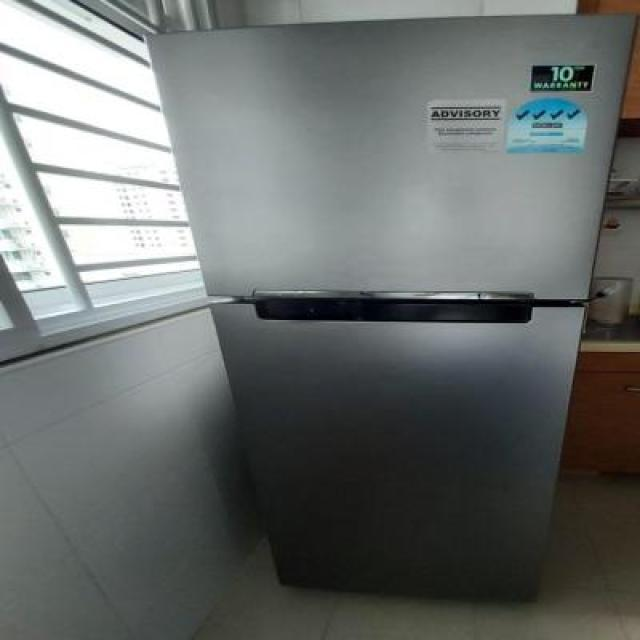refrigerator: (144, 14, 638, 596)
